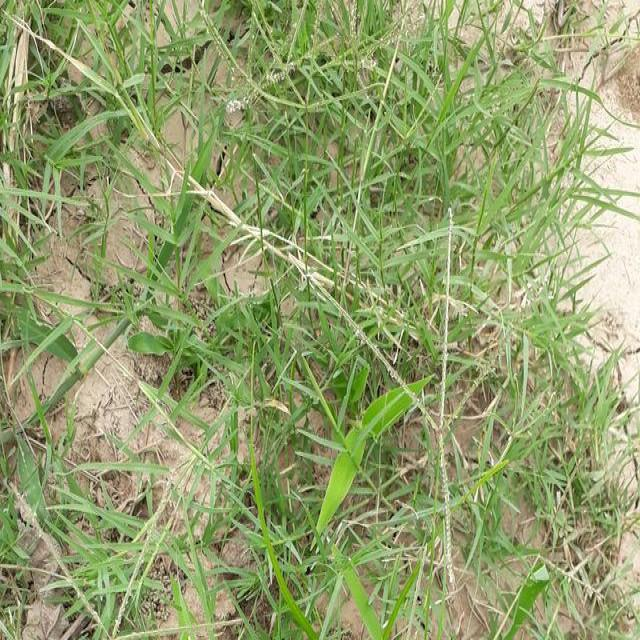weed: (243, 12, 604, 640), (0, 0, 231, 397), (0, 439, 222, 615)
